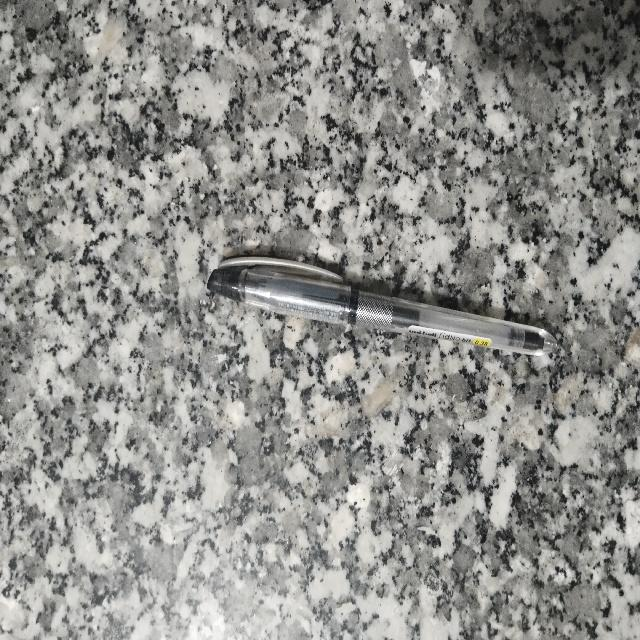pen: (207, 257, 556, 354)
